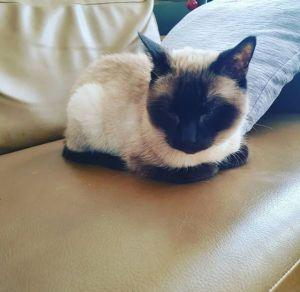siamese: (133, 28, 266, 163)
